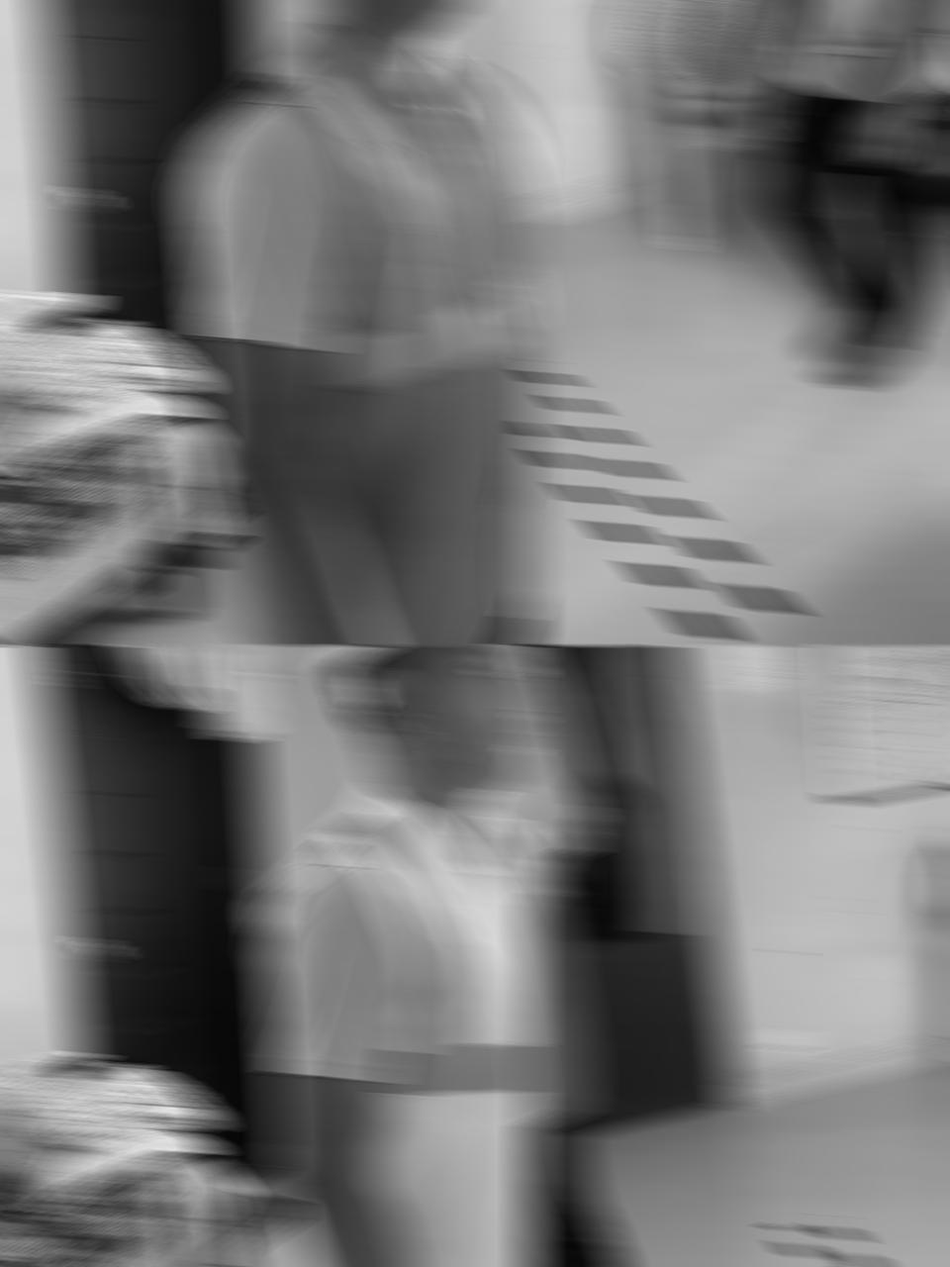BorderLine: (522, 358, 803, 646)
Helmet: (321, 645, 540, 796)
No_Vest: (766, 0, 950, 103)
Person: (176, 0, 540, 645), (249, 644, 540, 1267), (731, 0, 950, 390), (522, 644, 658, 1267)
Vest: (180, 15, 540, 646), (249, 781, 540, 1267), (522, 668, 595, 1143)
